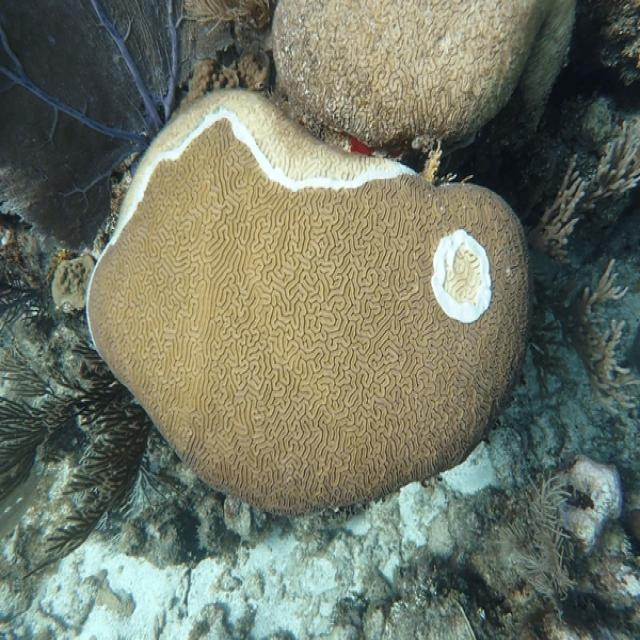Coral: (86, 86, 532, 521), (273, 0, 575, 152), (1, 339, 155, 582), (529, 257, 640, 417), (524, 120, 640, 265)
